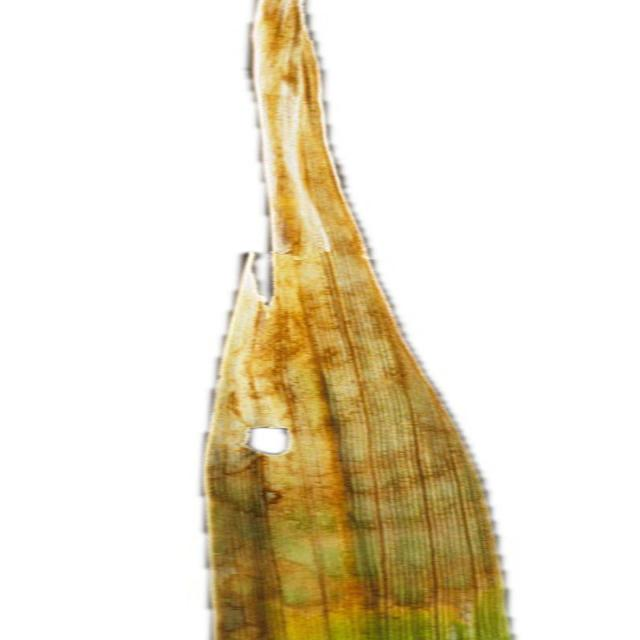Leaf scald: (72, 0, 540, 640)
